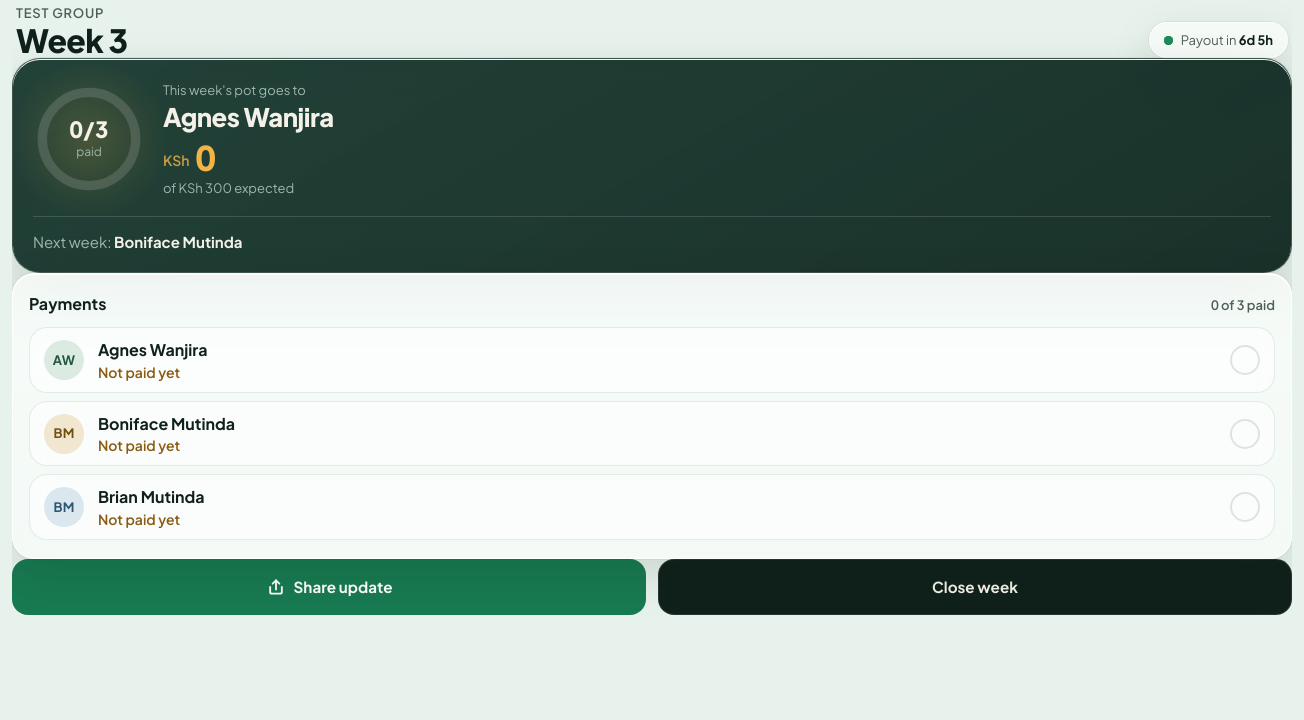
Test: RoundLive optimistic updates › dismisses the toast when tapped and clears it when the next tap starts
Step 1. Click the button with class "toggle" showing "AW Agnes Wanjira Not paid yet" → click(64, 360), box [29,328,1275,393]
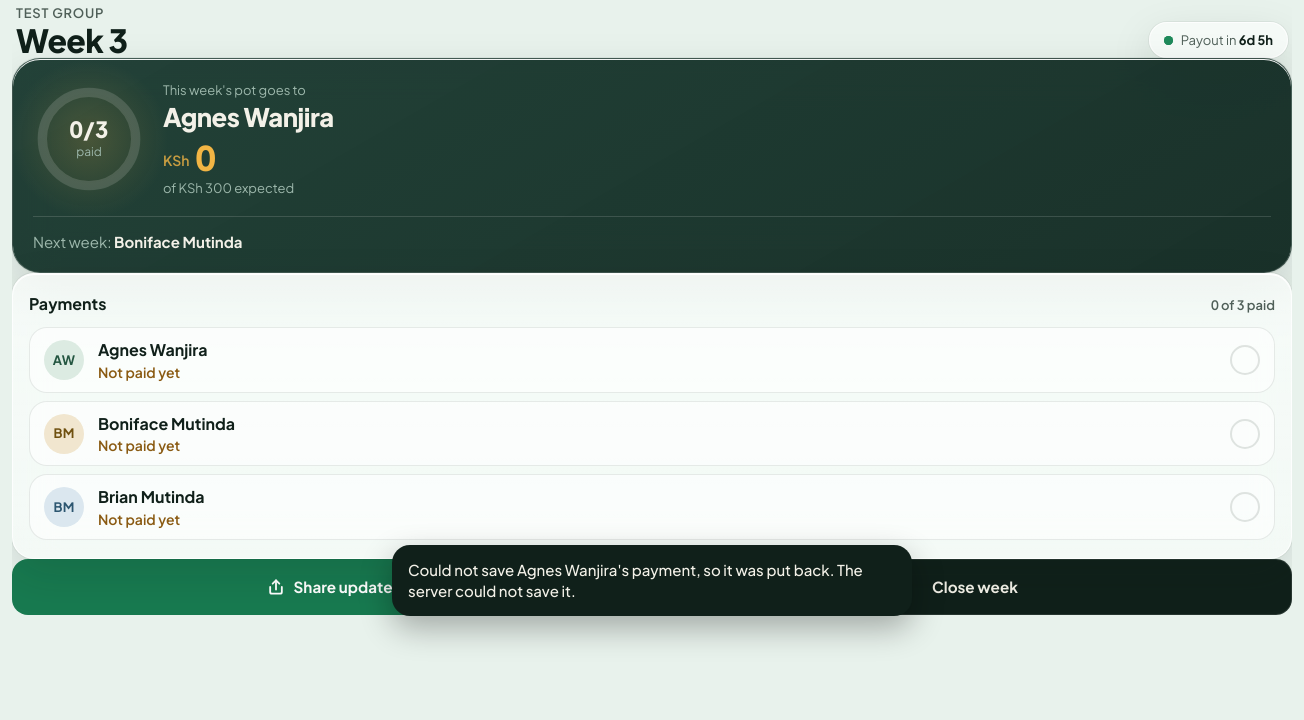
Check: the message with class "toast" is shown
Step 2. Click the message with class "toast" → click(652, 580), box [392,544,912,616]
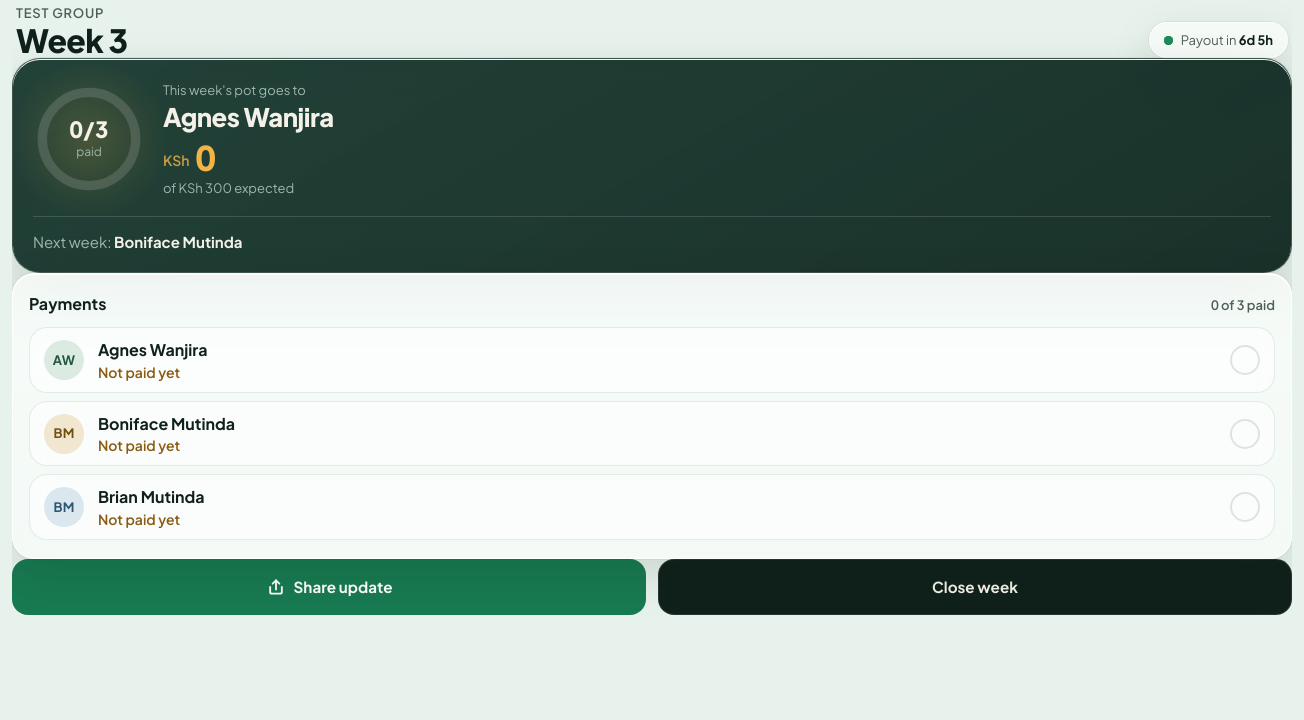
Check: the message with class "toast" is gone
Step 3. Click the button with class "toggle" showing "AW Agnes Wanjira Not paid yet" → click(64, 360), box [29,328,1275,393]
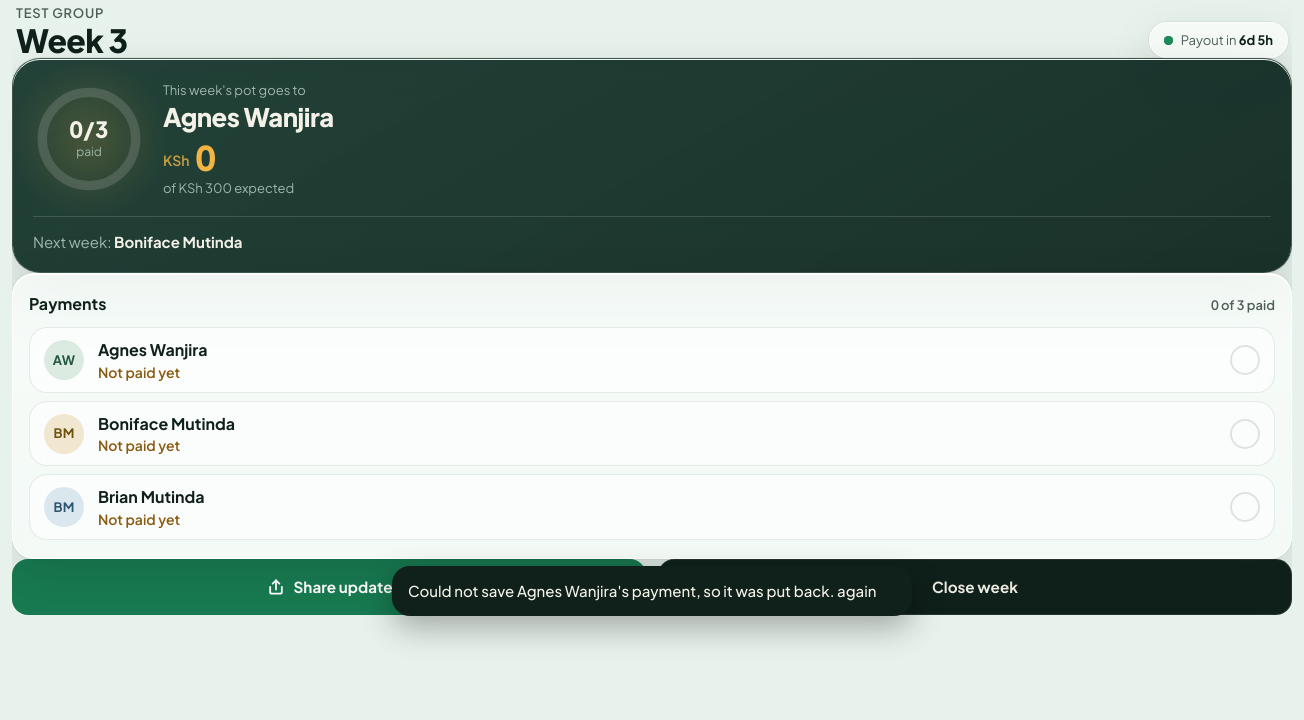
Check: the message "Could not save Agnes Wanjira's payment, so it was put back. again" is shown, box [392,566,912,616]
Step 4. Click the button with class "toggle" showing "AW Agnes Wanjira Not paid yet" → click(64, 360), box [29,328,1275,393]
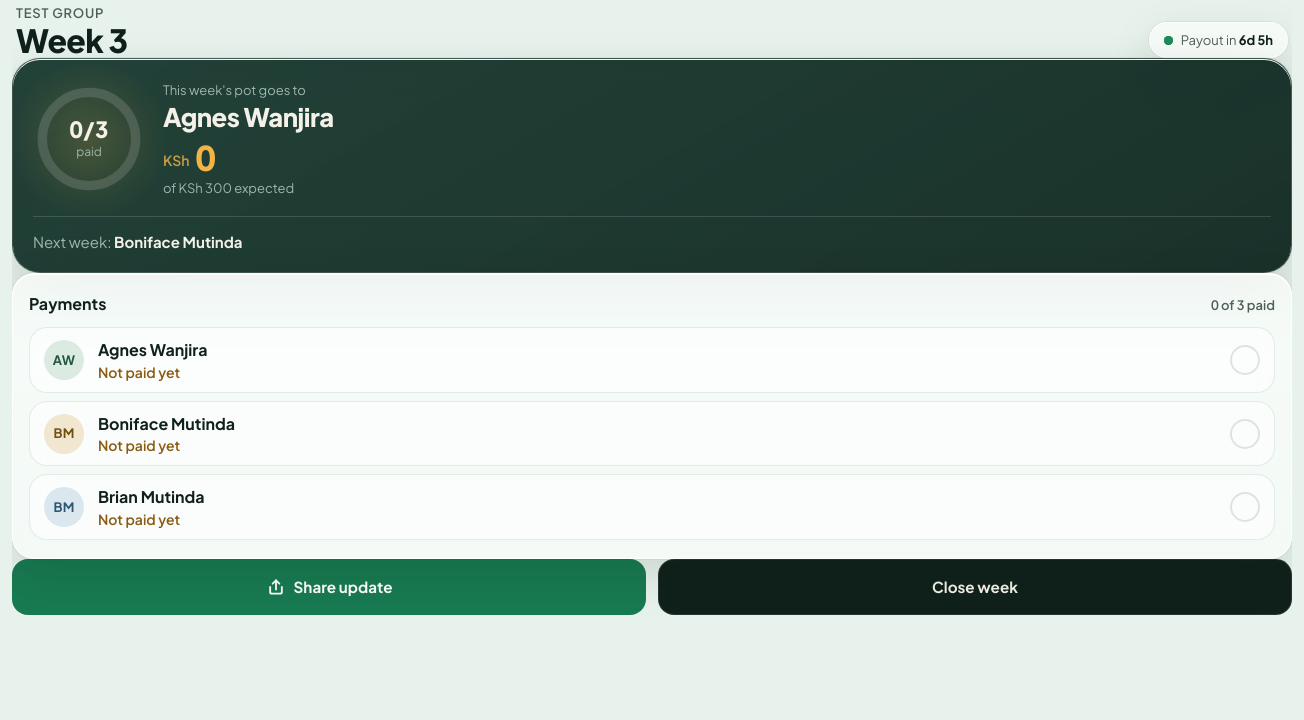
Check: the message with class "toast" is gone
